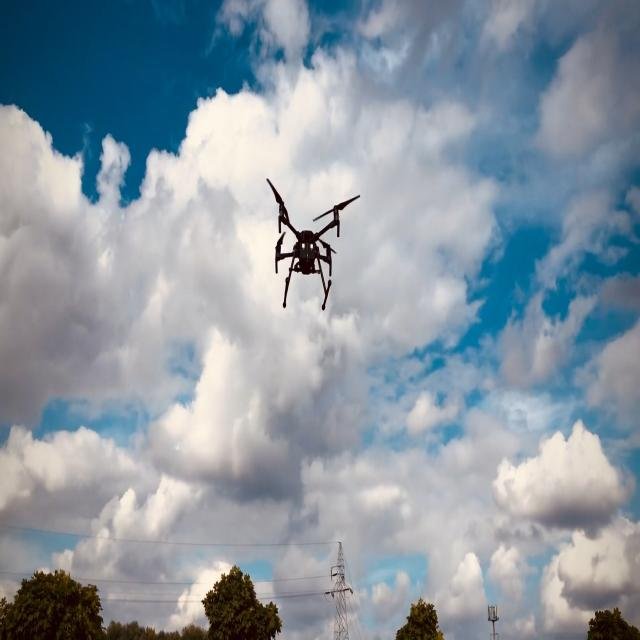drone: (265, 177, 360, 311)
